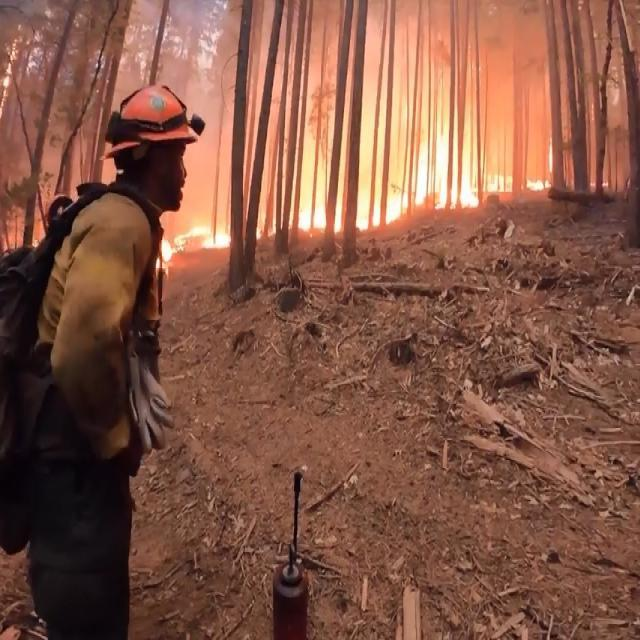Fire: (156, 133, 554, 272)
